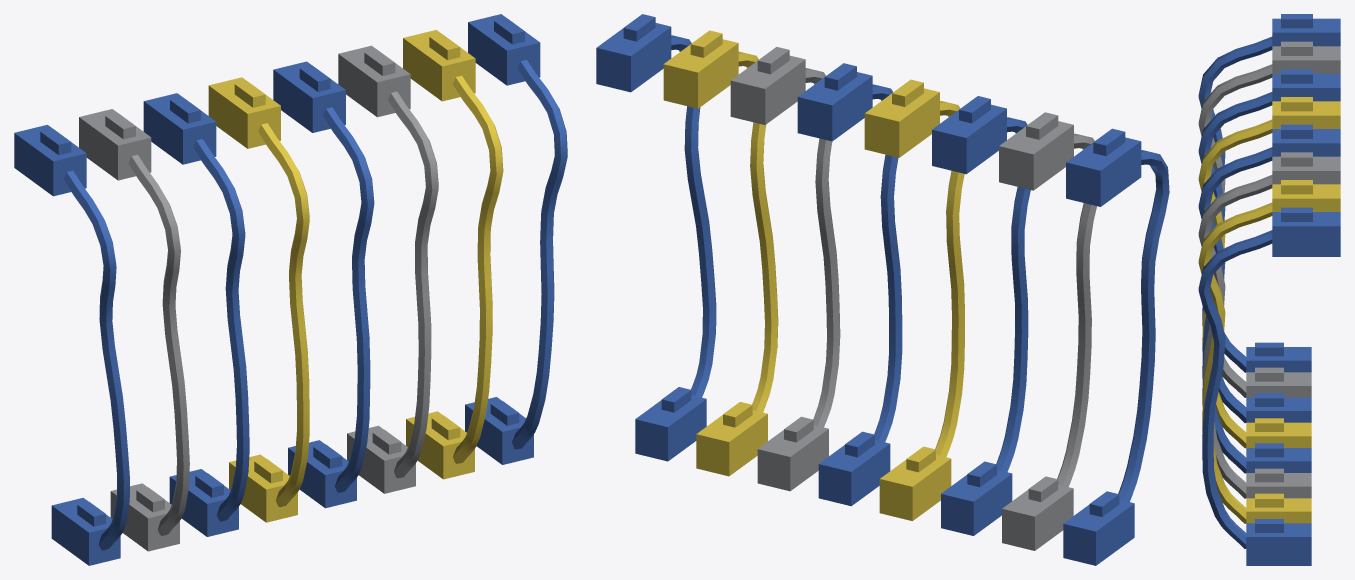
The model's file is PatchCords_Static.fbx.
The picture shows the model from 3 angles, left to right: view 1: azimuth 30°, elevation 25°; view 2: azimuth 150°, elevation 25°; view 3: azimuth 270°, elevation 25°; orthographic projection. The views are drawn at different scales.
Visible parts, largest first — view 1: PatchCord_01, PatchCord_08, PatchCord_07, PatchCord_03, PatchCord_06, PatchCord_05, PatchCord_02, PatchCord_04; view 2: PatchCord_01, PatchCord_08, PatchCord_07, PatchCord_05, PatchCord_04, PatchCord_06, PatchCord_02, PatchCord_03; view 3: PatchCord_08, PatchCord_07, PatchCord_06, PatchCord_05, PatchCord_04, PatchCord_03, PatchCord_02, PatchCord_01.
Part boxes in pixels (<box>): PatchCord_01: <box>14,124,129,565</box>; PatchCord_08: <box>465,14,567,464</box>; PatchCord_07: <box>403,30,503,479</box>; PatchCord_03: <box>143,93,249,536</box>; PatchCord_06: <box>338,45,438,493</box>; PatchCord_05: <box>273,61,374,508</box>; PatchCord_02: <box>79,109,189,551</box>; PatchCord_04: <box>208,77,309,522</box>; PatchCord_01: <box>1063,128,1169,565</box>; PatchCord_08: <box>596,14,716,461</box>; PatchCord_07: <box>663,30,778,476</box>; PatchCord_05: <box>797,63,902,506</box>; PatchCord_04: <box>864,79,964,520</box>; PatchCord_06: <box>730,47,840,491</box>; PatchCord_02: <box>999,112,1096,550</box>; PatchCord_03: <box>932,96,1030,535</box>; PatchCord_08: <box>1198,207,1340,565</box>; PatchCord_07: <box>1198,180,1340,523</box>; PatchCord_06: <box>1198,152,1340,498</box>; PatchCord_05: <box>1198,124,1340,473</box>; PatchCord_04: <box>1198,97,1340,448</box>; PatchCord_03: <box>1198,69,1340,422</box>; PatchCord_02: <box>1198,41,1340,397</box>; PatchCord_01: <box>1198,14,1340,372</box>.
Size of the model in its own units: 16.91 by 13.57 by 4.88.
